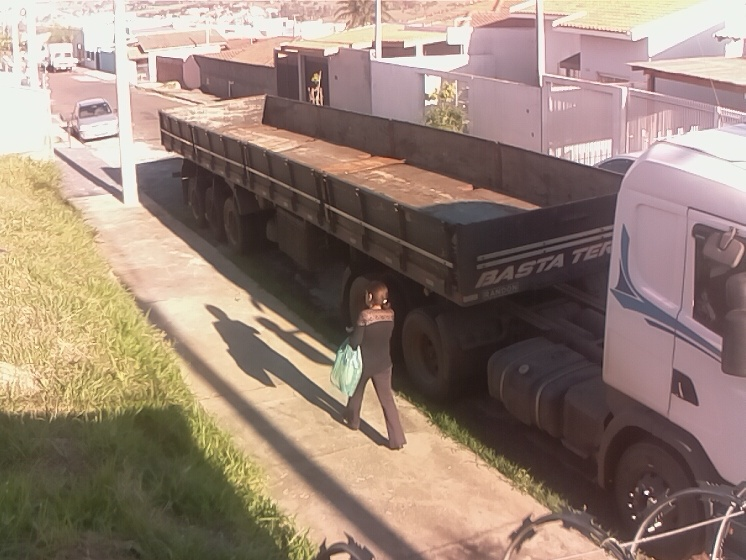person: (336, 278, 411, 452)
